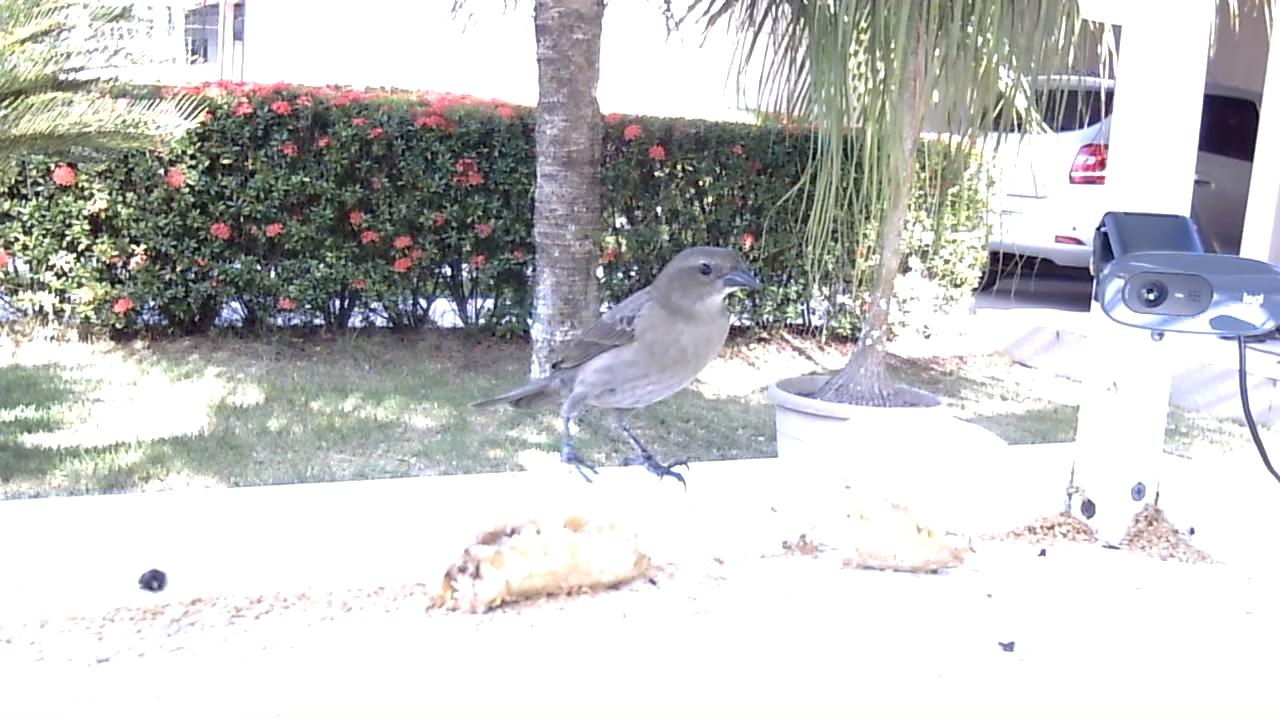chupim: (469, 245, 763, 498)
